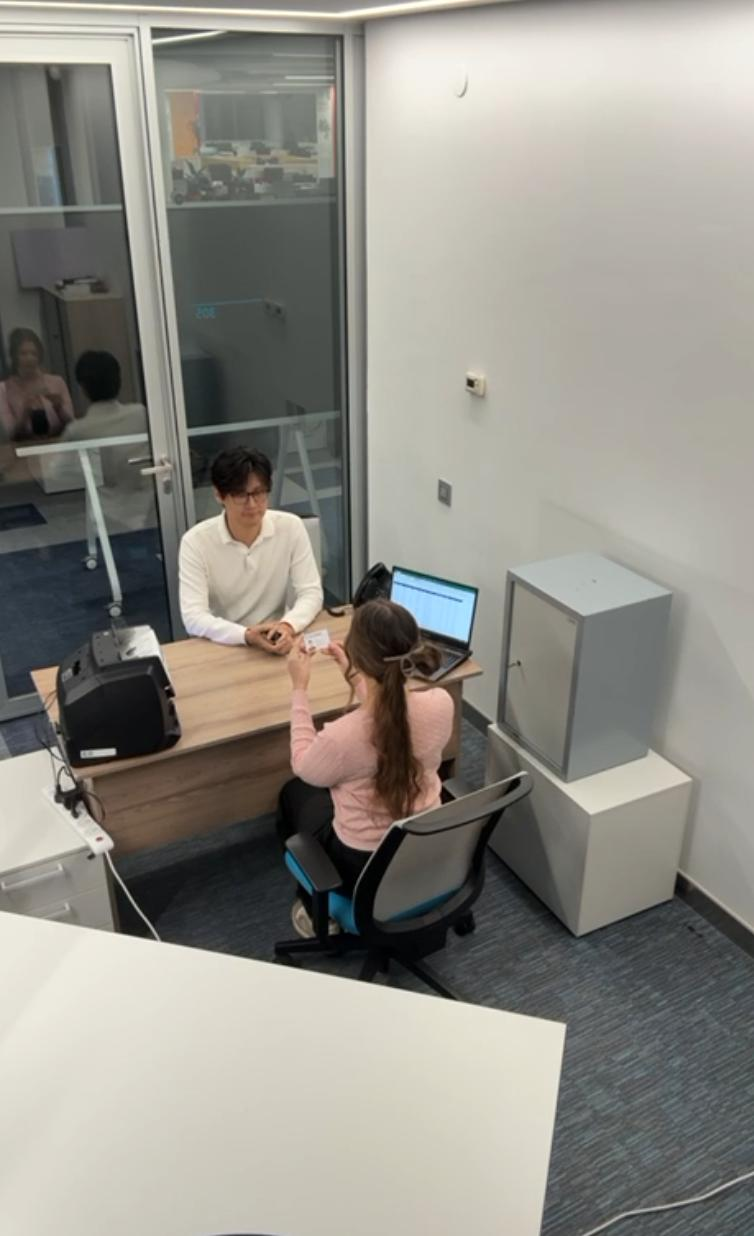counter: (53, 624, 186, 767)
document: (301, 629, 332, 658)
key_in: (502, 658, 533, 686)
screen_on: (389, 568, 476, 651)
